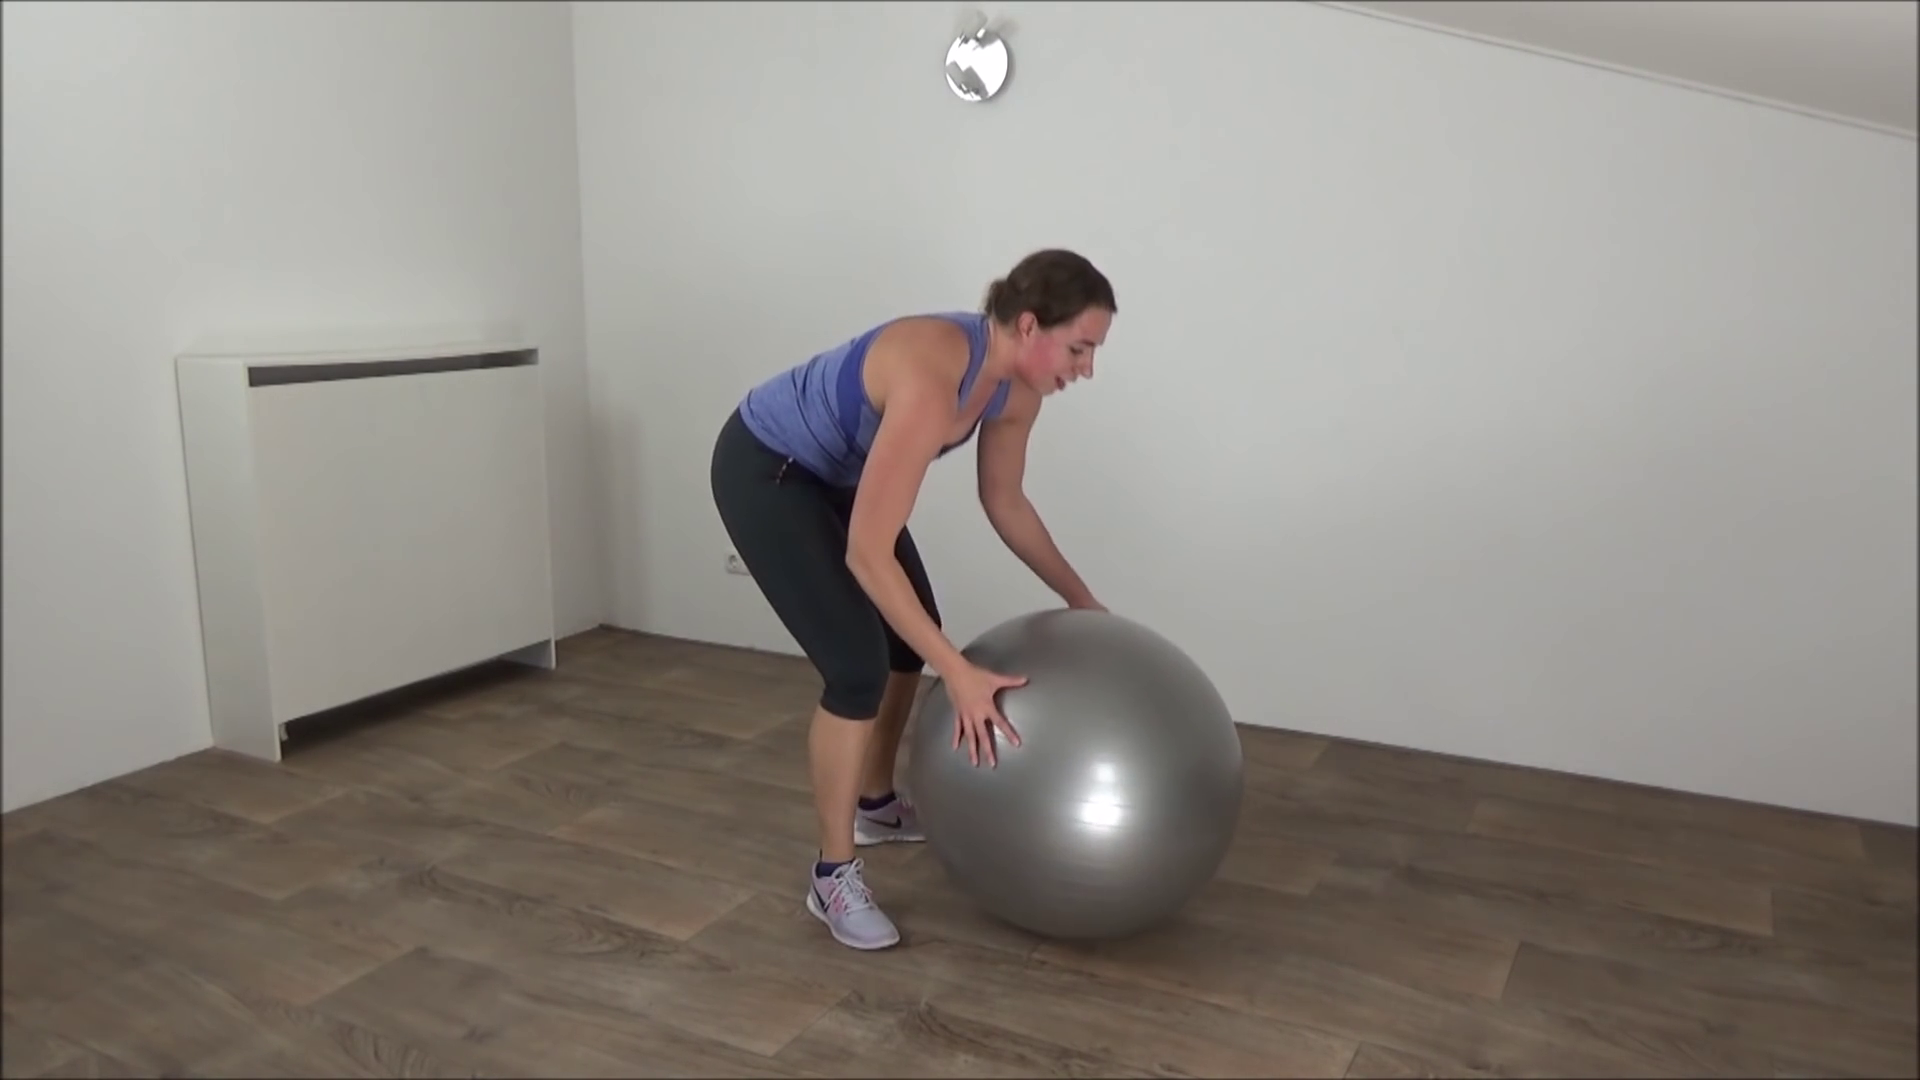yogaball: (897, 600, 1261, 963)
